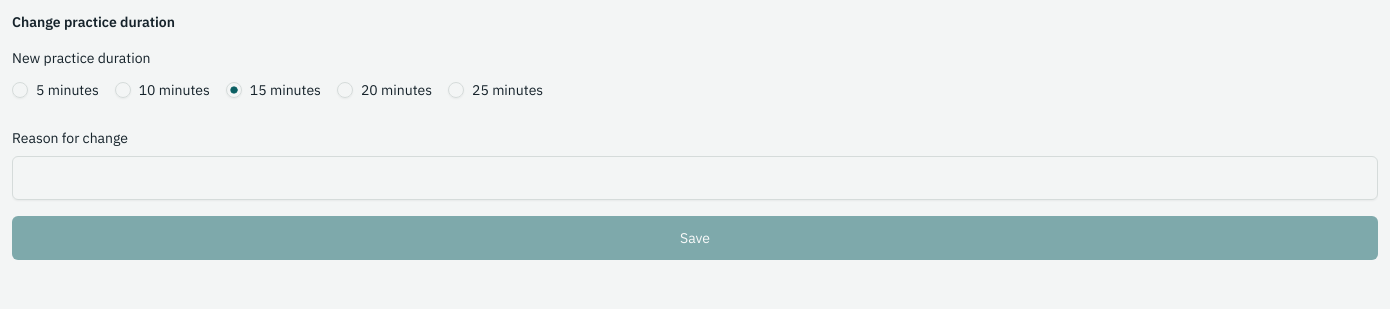
Test: ChangePracticeDuration › empty reason blocks submit with A reason is required and no request is sent
Expected: the radio button named "15 minutes" next to "15" is shown, [226,82,242,98]
Click the radio button named "20 minutes" next to "20" at (345, 90), box [337,82,353,98]
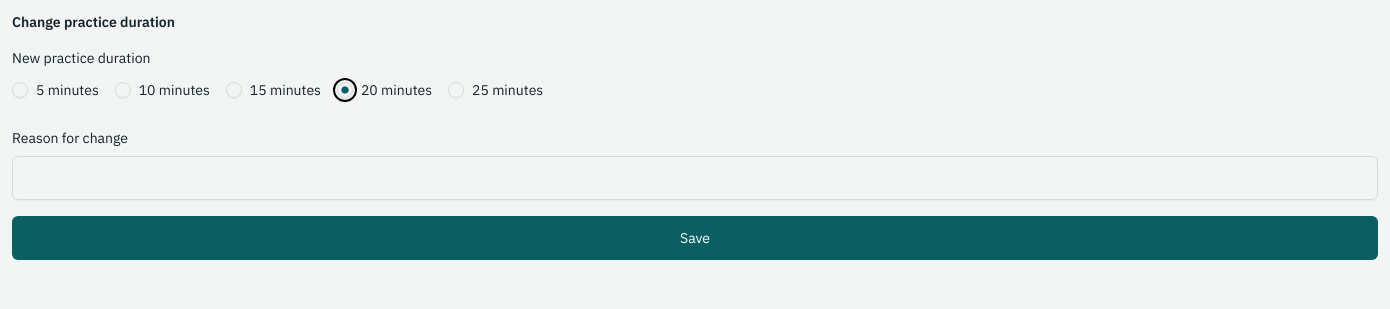
Click the button "Save" at (695, 238), box [12,216,1378,260]
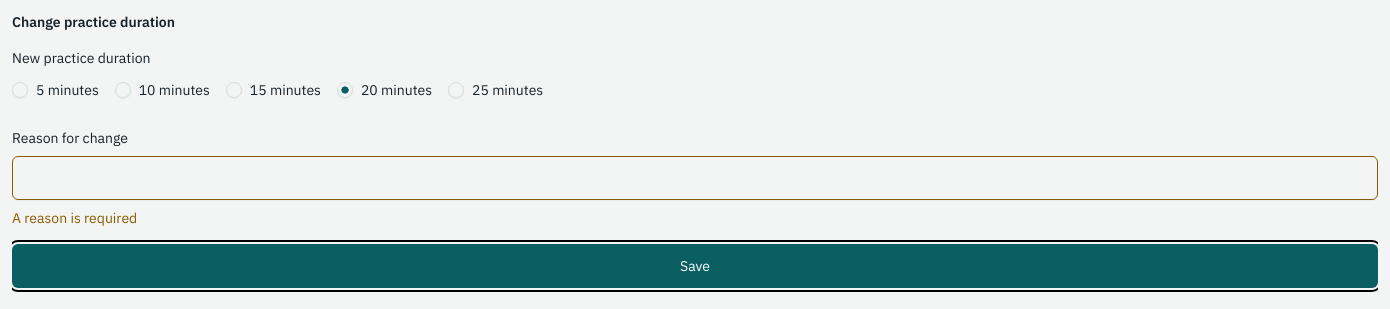
Expected: the text "A reason is required" is shown, [12,209,137,227]
